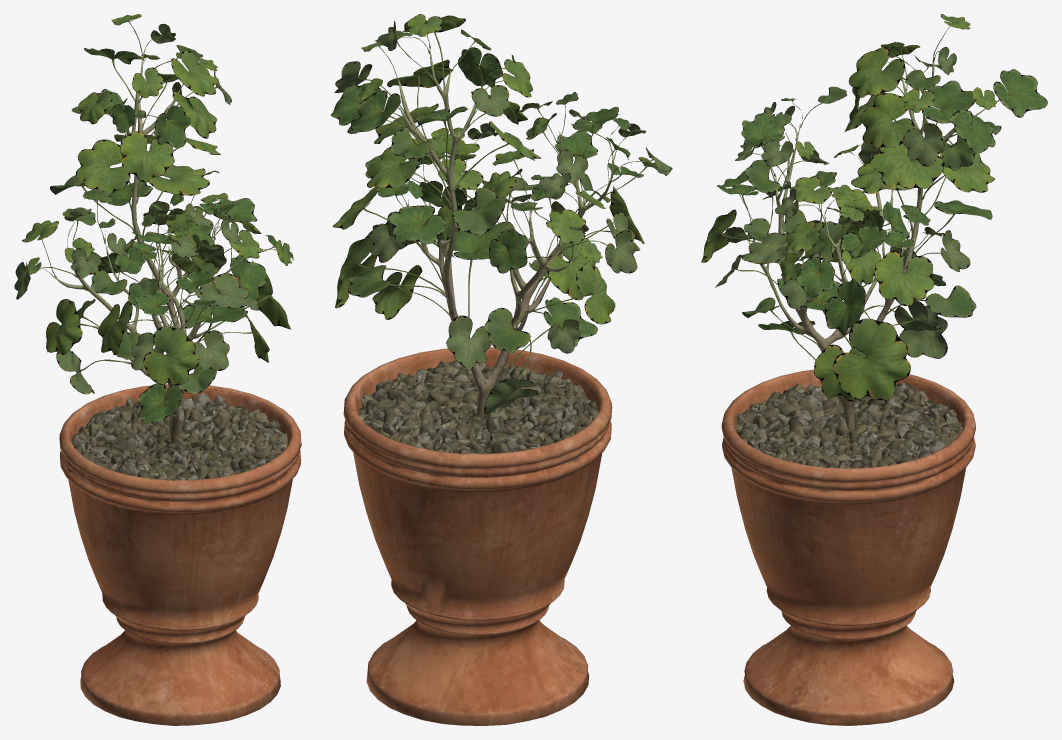
The model's file is potted_plant_01.glb.
3 views of the same model, side by side, from view 1: azimuth 30°, elevation 25°; view 2: azimuth 150°, elevation 25°; view 3: azimuth 270°, elevation 25° (orthographic). The views are drawn at different scales.
Visible parts, largest first — view 1: potted_plant_01_stem, potted_plant_01_leaves; view 2: potted_plant_01_stem, potted_plant_01_leaves; view 3: potted_plant_01_stem, potted_plant_01_leaves.
Part boxes in pixels (x1,y1,x2,y2): potted_plant_01_stem: (54, 54, 301, 725); potted_plant_01_leaves: (14, 14, 293, 423); potted_plant_01_stem: (343, 49, 613, 725); potted_plant_01_leaves: (330, 14, 672, 414); potted_plant_01_stem: (721, 55, 975, 725); potted_plant_01_leaves: (701, 14, 1047, 401).
Size of the model in its own units: 0.5874 by 1.34 by 0.6336.
Materials: 2 (2 with a texture image).
